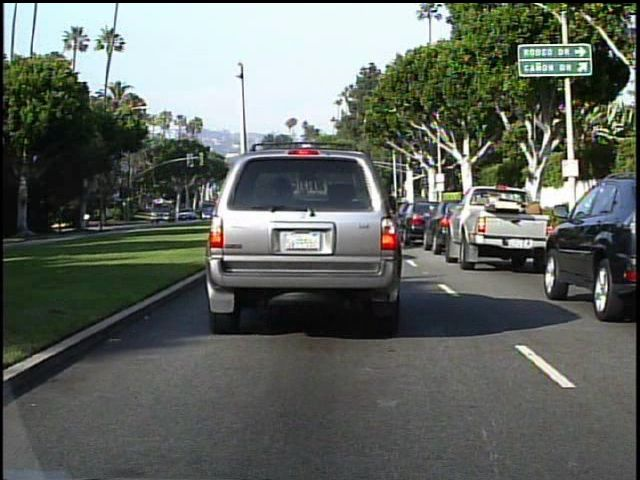person: (84, 209, 92, 231)
